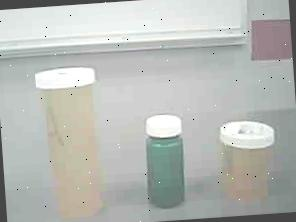Bottle A: (27, 58, 121, 222)
Bottle B: (211, 114, 286, 208)
Bottle C: (136, 110, 198, 212)
